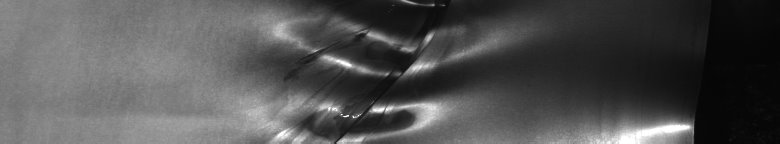ke: (274, 4, 497, 136)
